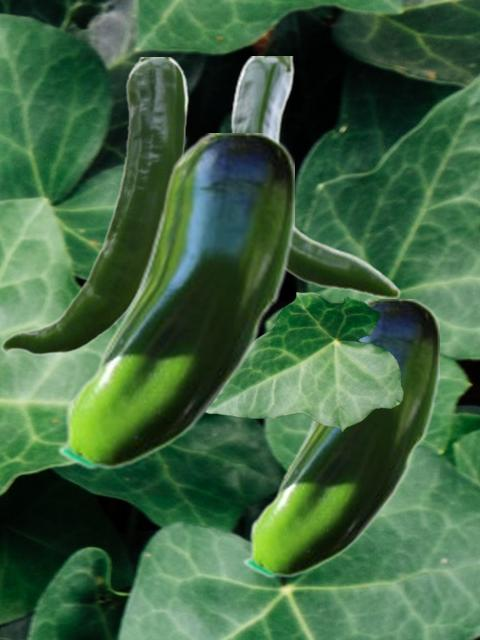green_chili: (56, 133, 293, 470), (0, 57, 188, 355), (242, 299, 438, 578), (230, 56, 400, 297)
